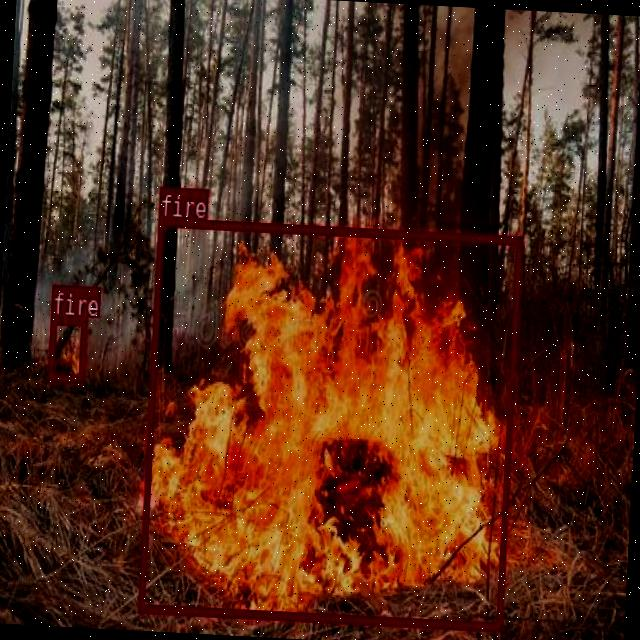fire: (137, 216, 521, 630), (46, 315, 85, 382)
